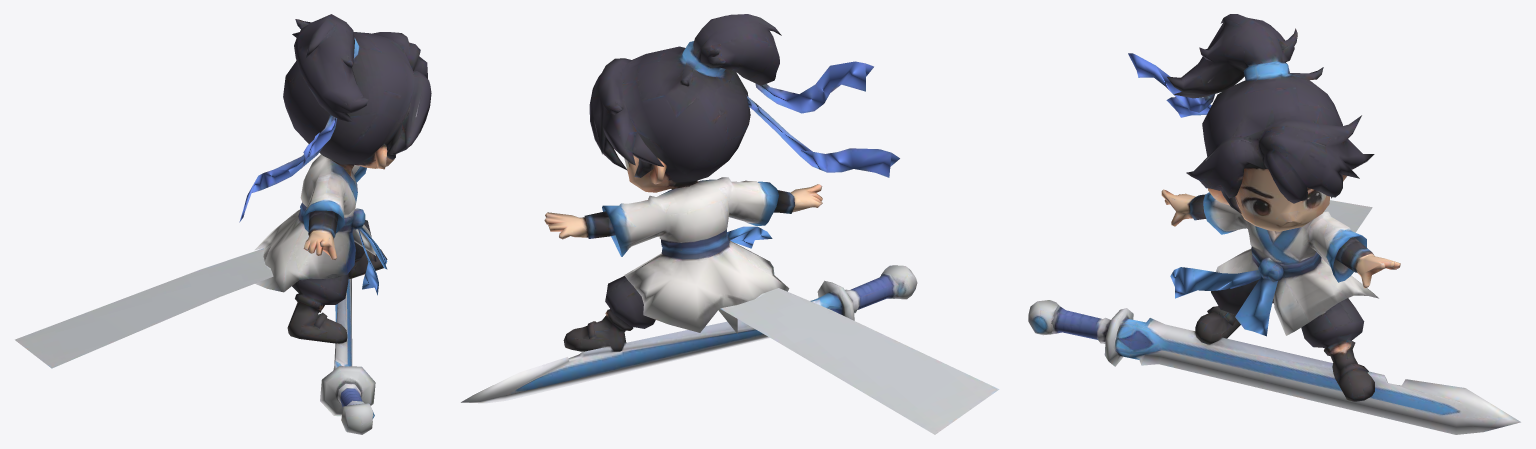
Rendered from cn_fly.glb.
3 renders of one model, left to right at view 1: azimuth 30°, elevation 25°; view 2: azimuth 150°, elevation 25°; view 3: azimuth 270°, elevation 25°, orthographic. The views are drawn at different scales.
Parts seen in each view (by area): view 1: tripo_node_db0144c1-549d-4c7c-801a-bbb37c7bab65; view 2: tripo_node_db0144c1-549d-4c7c-801a-bbb37c7bab65; view 3: tripo_node_db0144c1-549d-4c7c-801a-bbb37c7bab65.
Boxes of the visible parts, x1,y1,x2,y2 form: tripo_node_db0144c1-549d-4c7c-801a-bbb37c7bab65: [15, 14, 431, 434]; tripo_node_db0144c1-549d-4c7c-801a-bbb37c7bab65: [461, 14, 999, 434]; tripo_node_db0144c1-549d-4c7c-801a-bbb37c7bab65: [1028, 14, 1520, 434].
Bounding box in the file's own units: 0.998 × 0.8183 × 0.998.
Materials: 1 (1 with a texture image).
